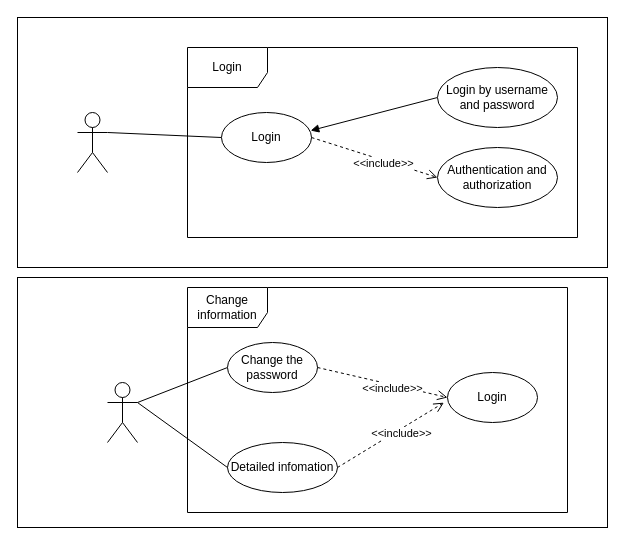
This 625x545 diagram has some shape labels left out. The centre of each missing label's shape, as x and y in pixels:
"Admin/Student/Teacher" goes at point 92,142.
"Student/Teacher/Admin" goes at point 122,412.
